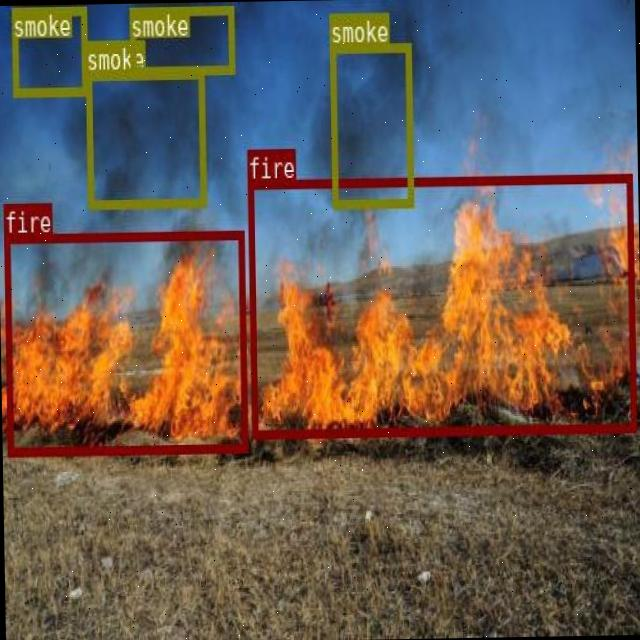fire: (246, 174, 635, 436), (2, 228, 246, 454)
smoke: (85, 68, 205, 207), (329, 42, 413, 206), (128, 5, 234, 74), (10, 5, 86, 94)
